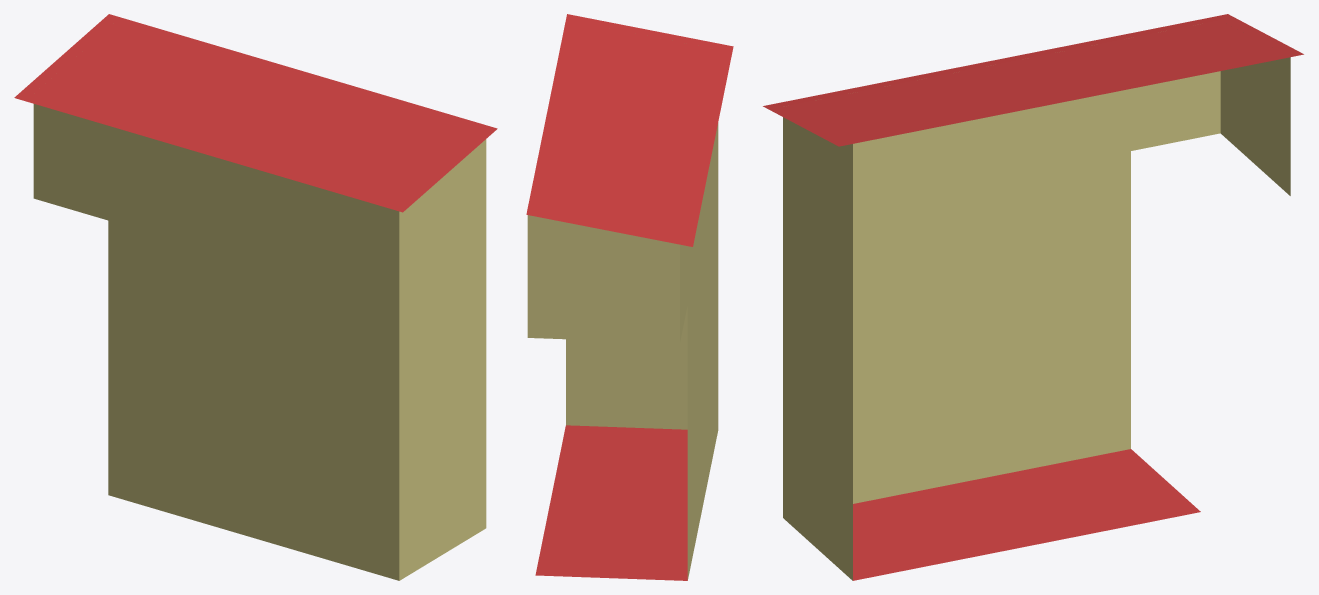
The picture shows the model from 3 angles, left to right: view 1: azimuth 30°, elevation 25°; view 2: azimuth 150°, elevation 25°; view 3: azimuth 270°, elevation 25°; orthographic projection. The views are drawn at different scales.
Size of the model in its own units: 6.21 by 8.83 by 7.86.
